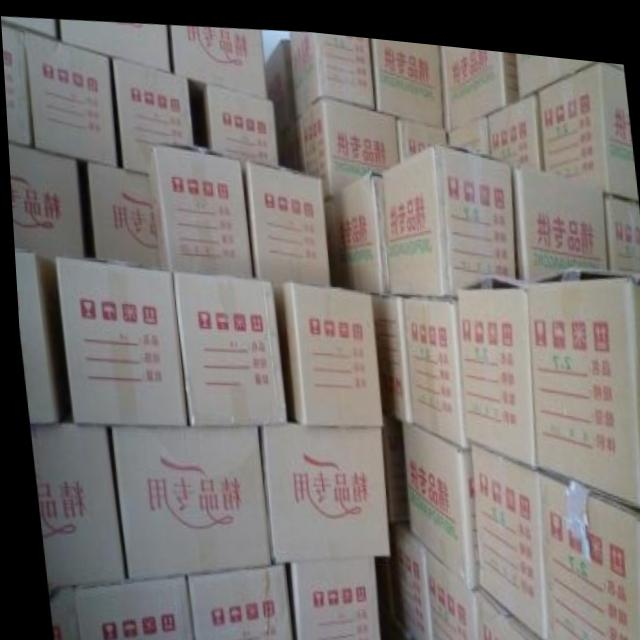box: (524, 256, 640, 497), (106, 421, 265, 576), (52, 257, 184, 424), (380, 135, 513, 289), (533, 459, 640, 640), (170, 268, 285, 424), (257, 419, 384, 560), (269, 273, 379, 419), (454, 262, 532, 459), (464, 429, 540, 631), (25, 423, 118, 588), (537, 49, 637, 187), (146, 141, 251, 272), (399, 412, 474, 579), (25, 30, 116, 166), (510, 152, 608, 271), (241, 154, 327, 278), (293, 91, 396, 193), (12, 251, 70, 425), (400, 286, 465, 440), (113, 53, 193, 173), (7, 141, 81, 261), (178, 561, 284, 640), (284, 548, 374, 640), (66, 574, 186, 640), (288, 25, 374, 114), (85, 158, 155, 260), (332, 164, 385, 291), (170, 23, 267, 91), (370, 30, 443, 118), (444, 36, 520, 117), (202, 78, 276, 158), (368, 285, 411, 418), (383, 514, 426, 640), (418, 539, 471, 640), (59, 20, 169, 66), (486, 78, 544, 162), (469, 577, 540, 640), (1, 23, 32, 145), (516, 42, 597, 87), (264, 34, 296, 128), (601, 182, 640, 258), (379, 406, 404, 514), (395, 108, 445, 152), (445, 103, 490, 144), (41, 587, 72, 640), (322, 186, 338, 280), (1, 16, 56, 35)
